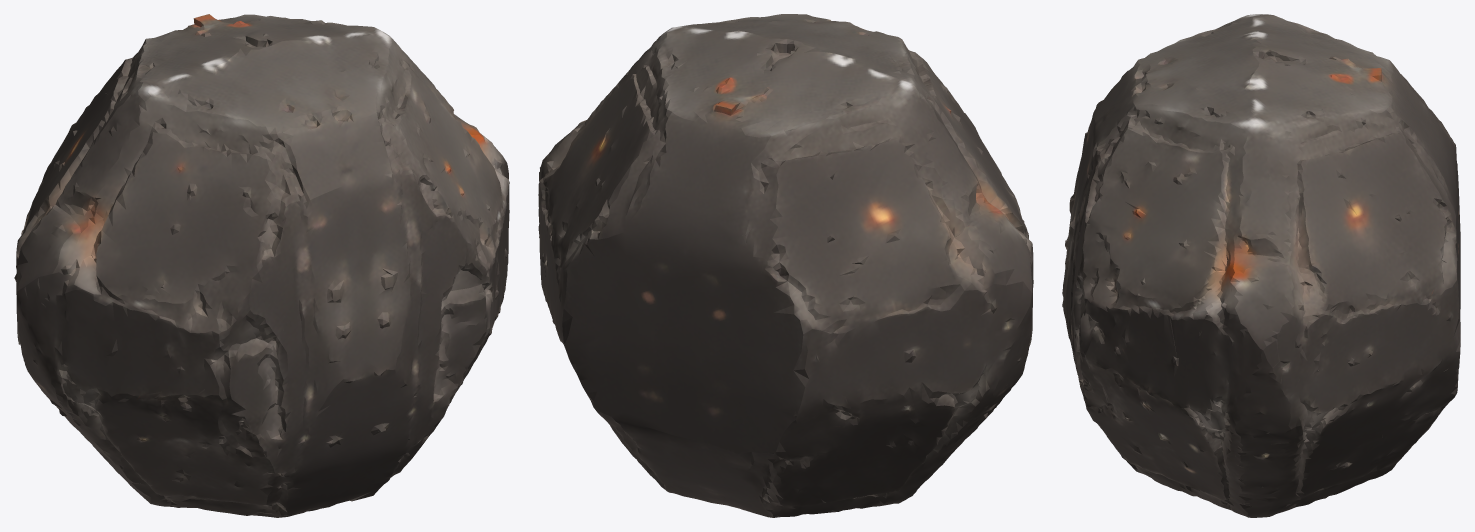
Rendered from meteorite_iron.glb.
3 renders of one model, left to right at view 1: azimuth 30°, elevation 25°; view 2: azimuth 150°, elevation 25°; view 3: azimuth 270°, elevation 25°, orthographic. The views are drawn at different scales.
Parts seen in each view (by area): view 1: meteorite_iron; view 2: meteorite_iron; view 3: meteorite_iron.
Boxes of the visible parts, x1,y1,x2,y2 form: meteorite_iron: (14,14,509,517); meteorite_iron: (538,14,1033,517); meteorite_iron: (1062,14,1460,517).
Size of the model in its own units: 1.9 by 1.64 by 1.39.
Materials: 1 (1 with a texture image).
